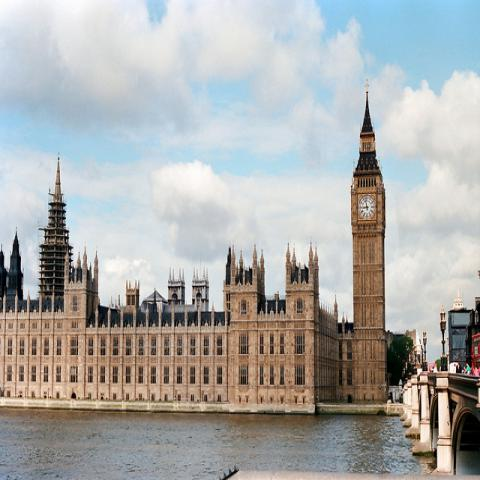bus: (472, 331, 479, 377), (427, 363, 438, 373)
car: (430, 365, 434, 372)
